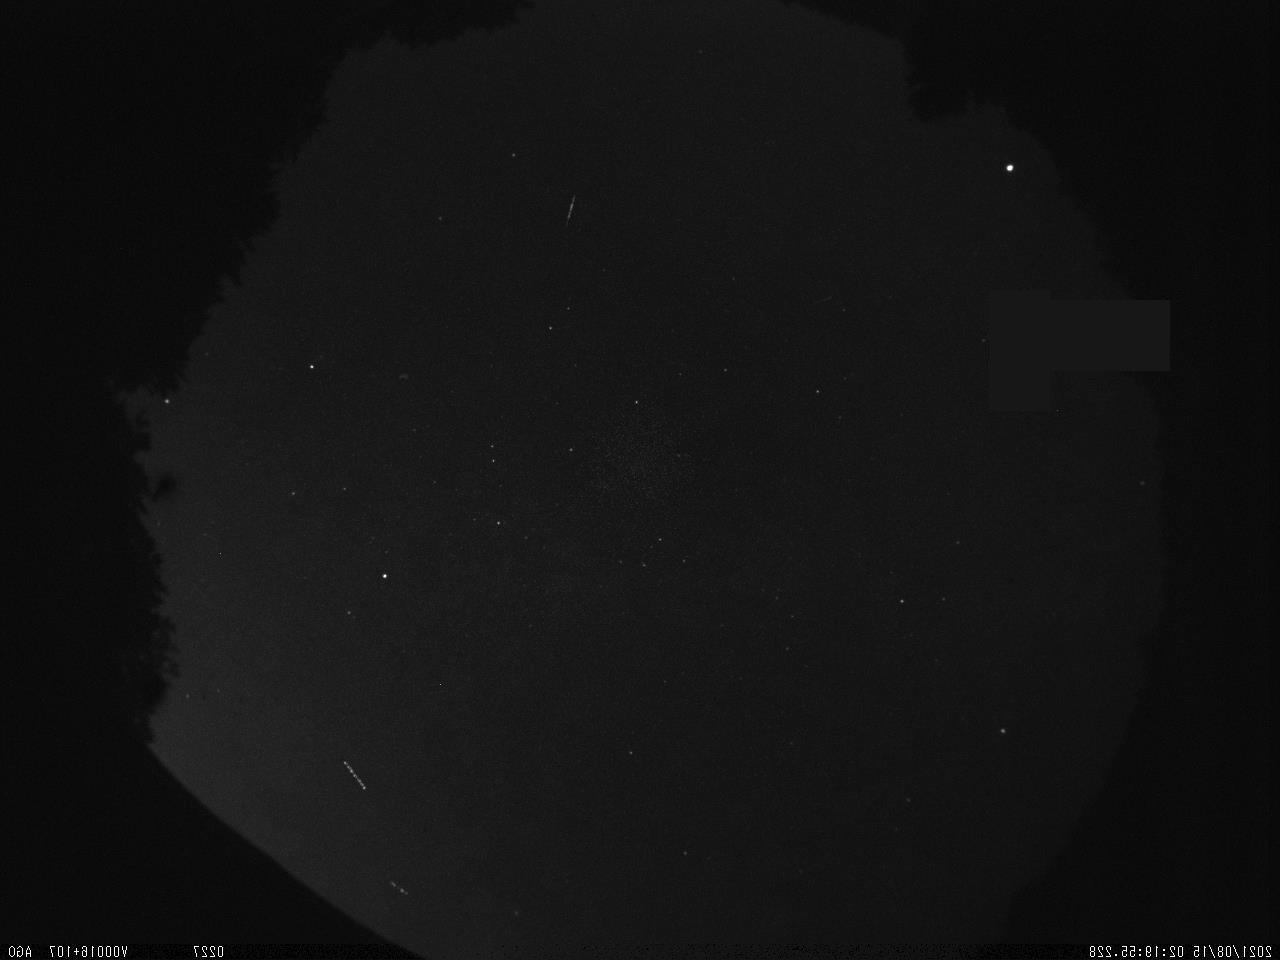meteor: (561, 190, 581, 225)
